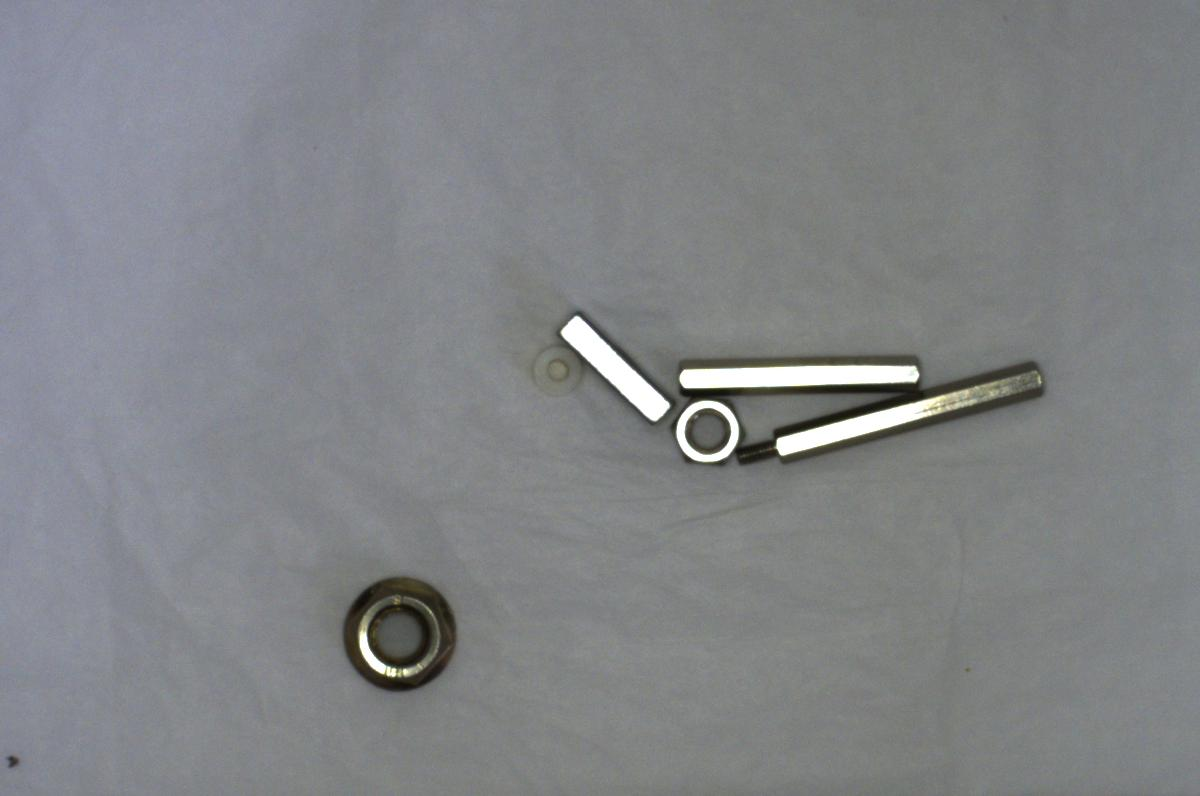Flange nut: (324, 565, 481, 699)
Hexagon nut: (668, 394, 752, 470)
Hexagonal steel column: (733, 350, 1051, 462)
Plastic cushion pillar: (527, 341, 591, 402)
Rectangular nut: (553, 313, 672, 434)
Spring washer: (667, 343, 924, 399)
